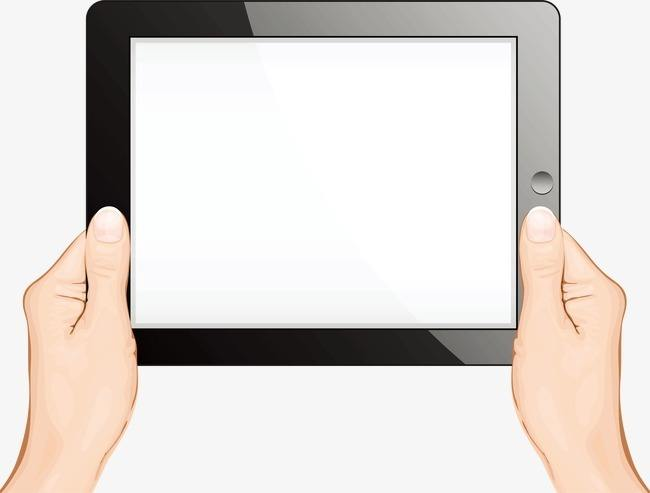pad: (13, 1, 630, 472)
